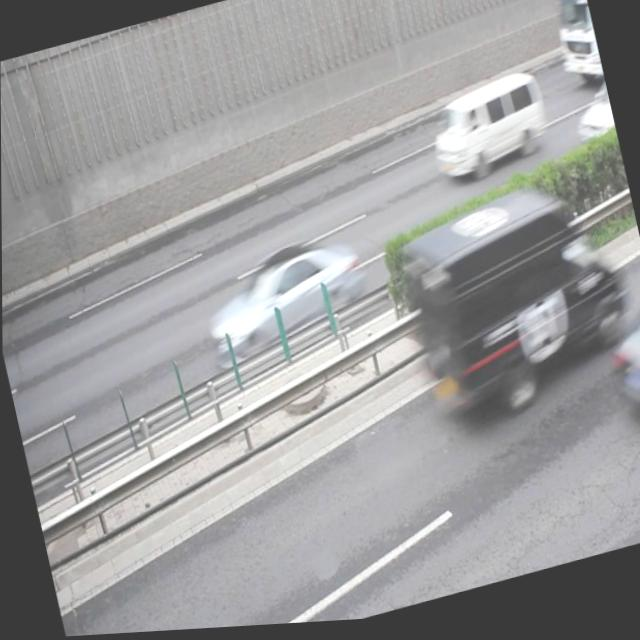bus: (544, 0, 604, 93)
car: (196, 230, 372, 369), (597, 286, 640, 447), (561, 70, 622, 178)
truck: (396, 172, 633, 430), (422, 72, 548, 189)
